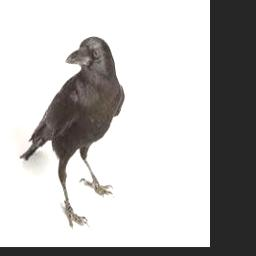Crow: (20, 35, 126, 231)
